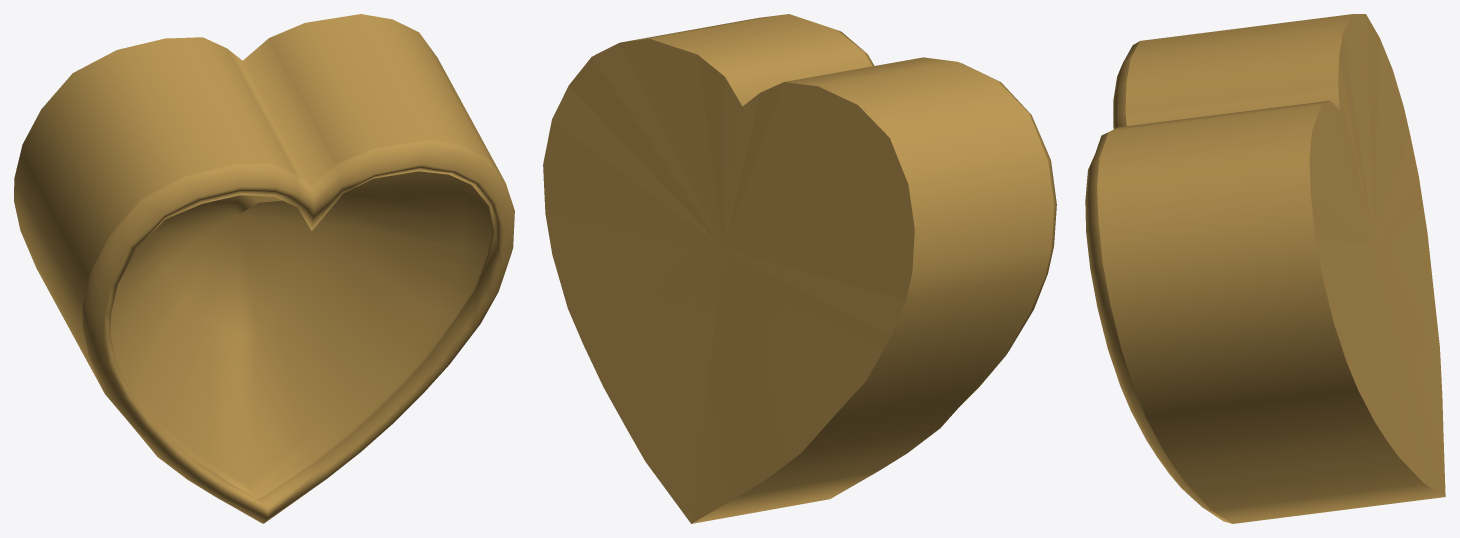
Rendered from BL1_8shapes_heart_Classic_Metal.001 3.glb.
The picture shows the model from 3 angles, left to right: view 1: azimuth 30°, elevation 25°; view 2: azimuth 150°, elevation 25°; view 3: azimuth 270°, elevation 25°; orthographic projection. The views are drawn at different scales.
Visible parts, largest first — view 1: BL1_8shapes_heart_Classic_Metal.001; view 2: BL1_8shapes_heart_Classic_Metal.001; view 3: BL1_8shapes_heart_Classic_Metal.001.
Boxes of the visible parts, <box> form: BL1_8shapes_heart_Classic_Metal.001: <box>14,14,514,523</box>; BL1_8shapes_heart_Classic_Metal.001: <box>543,14,1056,523</box>; BL1_8shapes_heart_Classic_Metal.001: <box>1085,14,1445,523</box>.
Size of the model in its own units: 0.5016 by 0.5061 by 0.3506.
